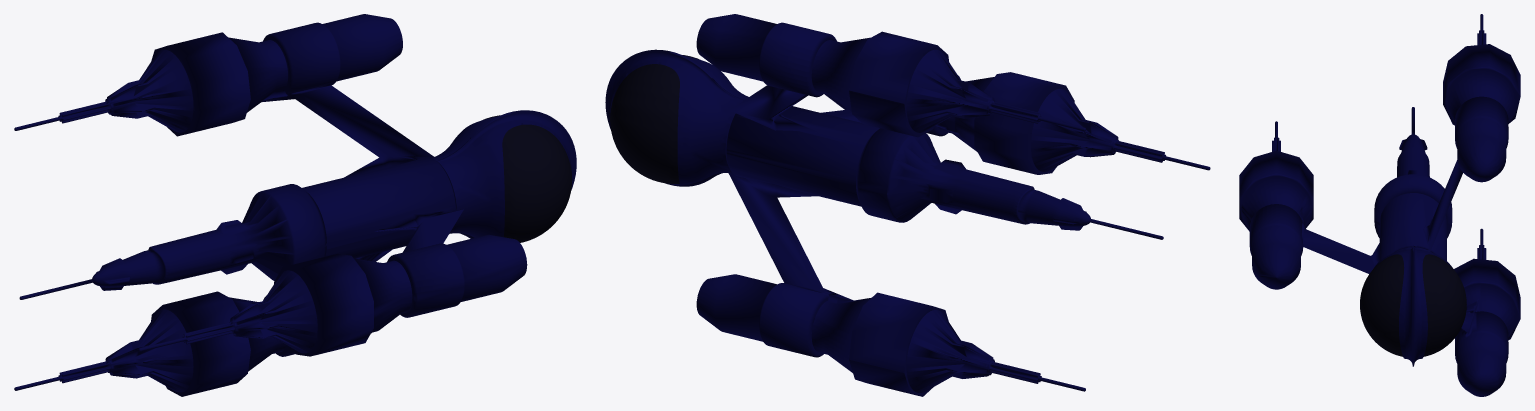
Rendered from Liberator.obj.
3 views of the same model, side by side, from view 1: azimuth 30°, elevation 25°; view 2: azimuth 150°, elevation 25°; view 3: azimuth 270°, elevation 25° (orthographic). The views are drawn at different scales.
Size of the model in its own units: 434 by 256 by 230.
